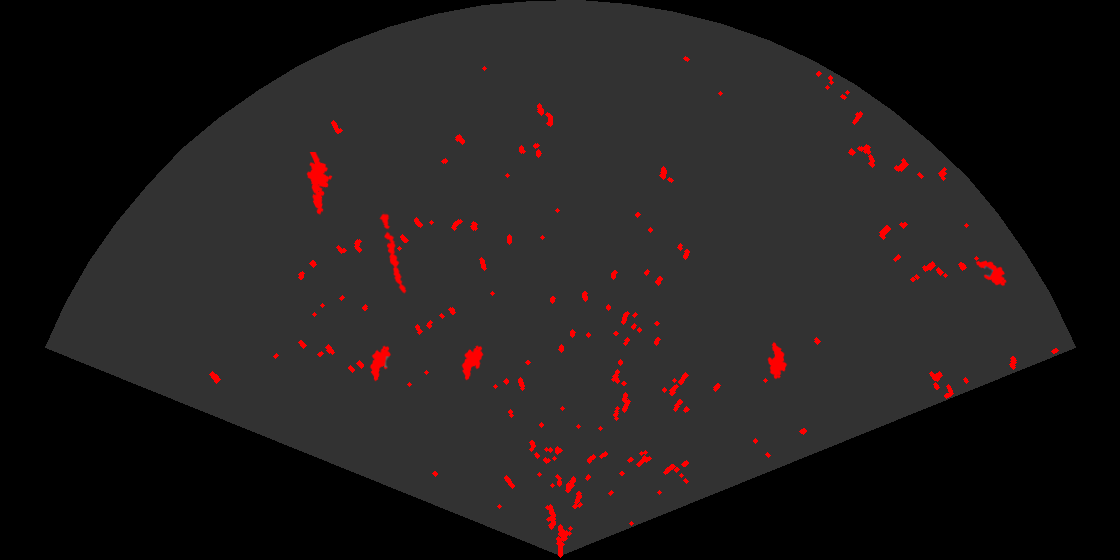AUV: (974, 259, 1008, 288), (368, 344, 393, 383), (460, 344, 485, 382), (766, 340, 789, 381)
chain: (378, 211, 408, 296)
frogman: (305, 152, 334, 216)
